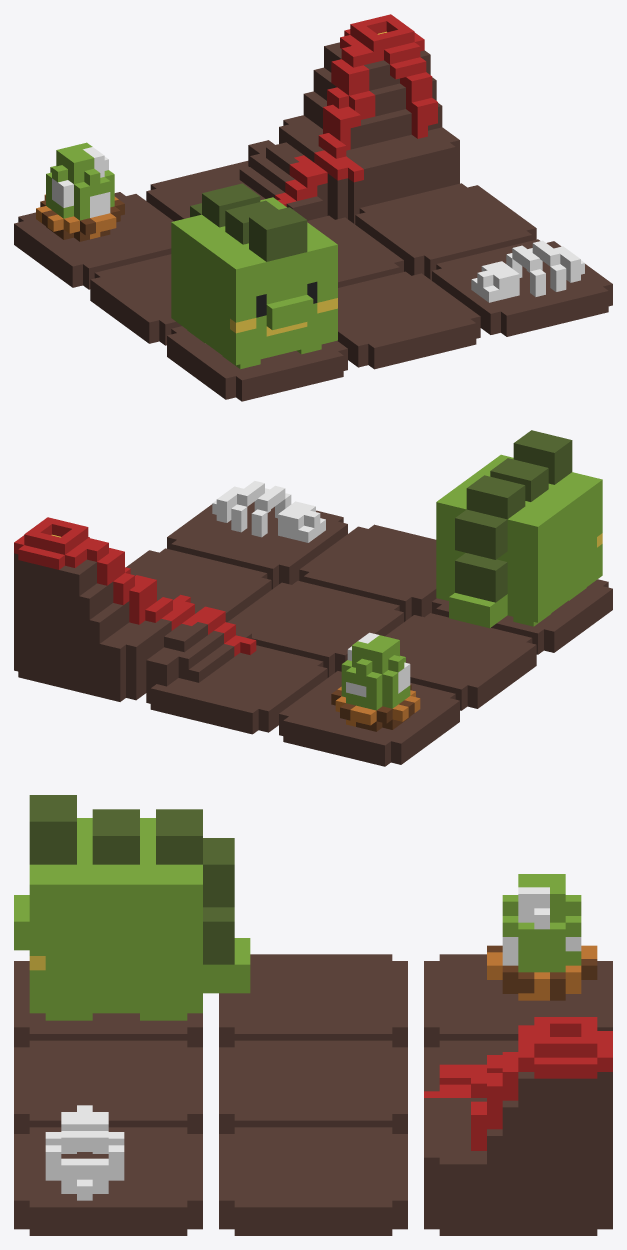
The model's file is chapter_six_tile.obj.
The picture shows the model from 3 angles, top to bottom: view 1: azimuth 30°, elevation 25°; view 2: azimuth 150°, elevation 25°; view 3: azimuth 270°, elevation 25°; orthographic projection. The views are drawn at different scales.
Bounding box in the file's own units: 3.8 × 1.5 × 3.8.
Materials: 1 (1 with a texture image).
